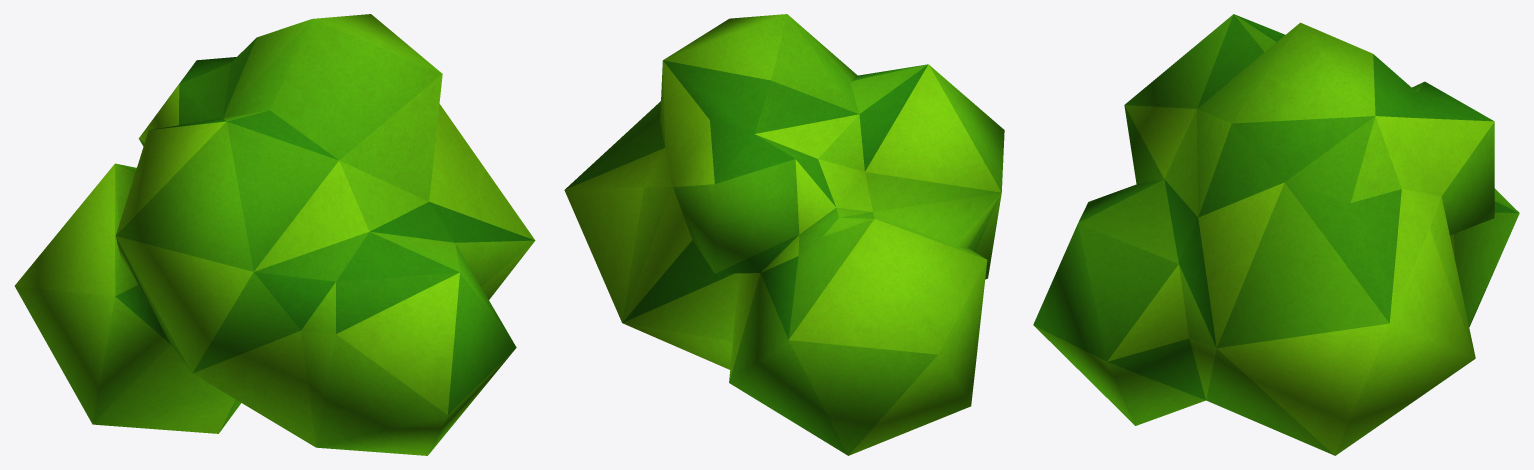
Rendered from Bushes-01.fbx.
3 views of the same model, side by side, from view 1: azimuth 30°, elevation 25°; view 2: azimuth 150°, elevation 25°; view 3: azimuth 270°, elevation 25° (orthographic). The views are drawn at different scales.
Parts seen in each view (by area): view 1: Bushes-01; view 2: Bushes-01; view 3: Bushes-01.
Boxes of the visible parts, <box> form: Bushes-01: <box>14,14,535,455</box>; Bushes-01: <box>564,14,1004,455</box>; Bushes-01: <box>1033,14,1519,455</box>.
Size of the model in its own units: 0.7668 by 0.7053 by 0.7563.
